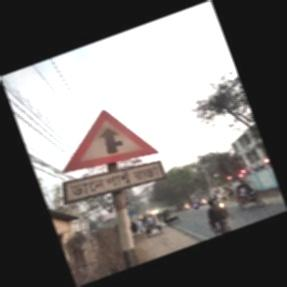Side-road-right: (63, 110, 167, 203)
